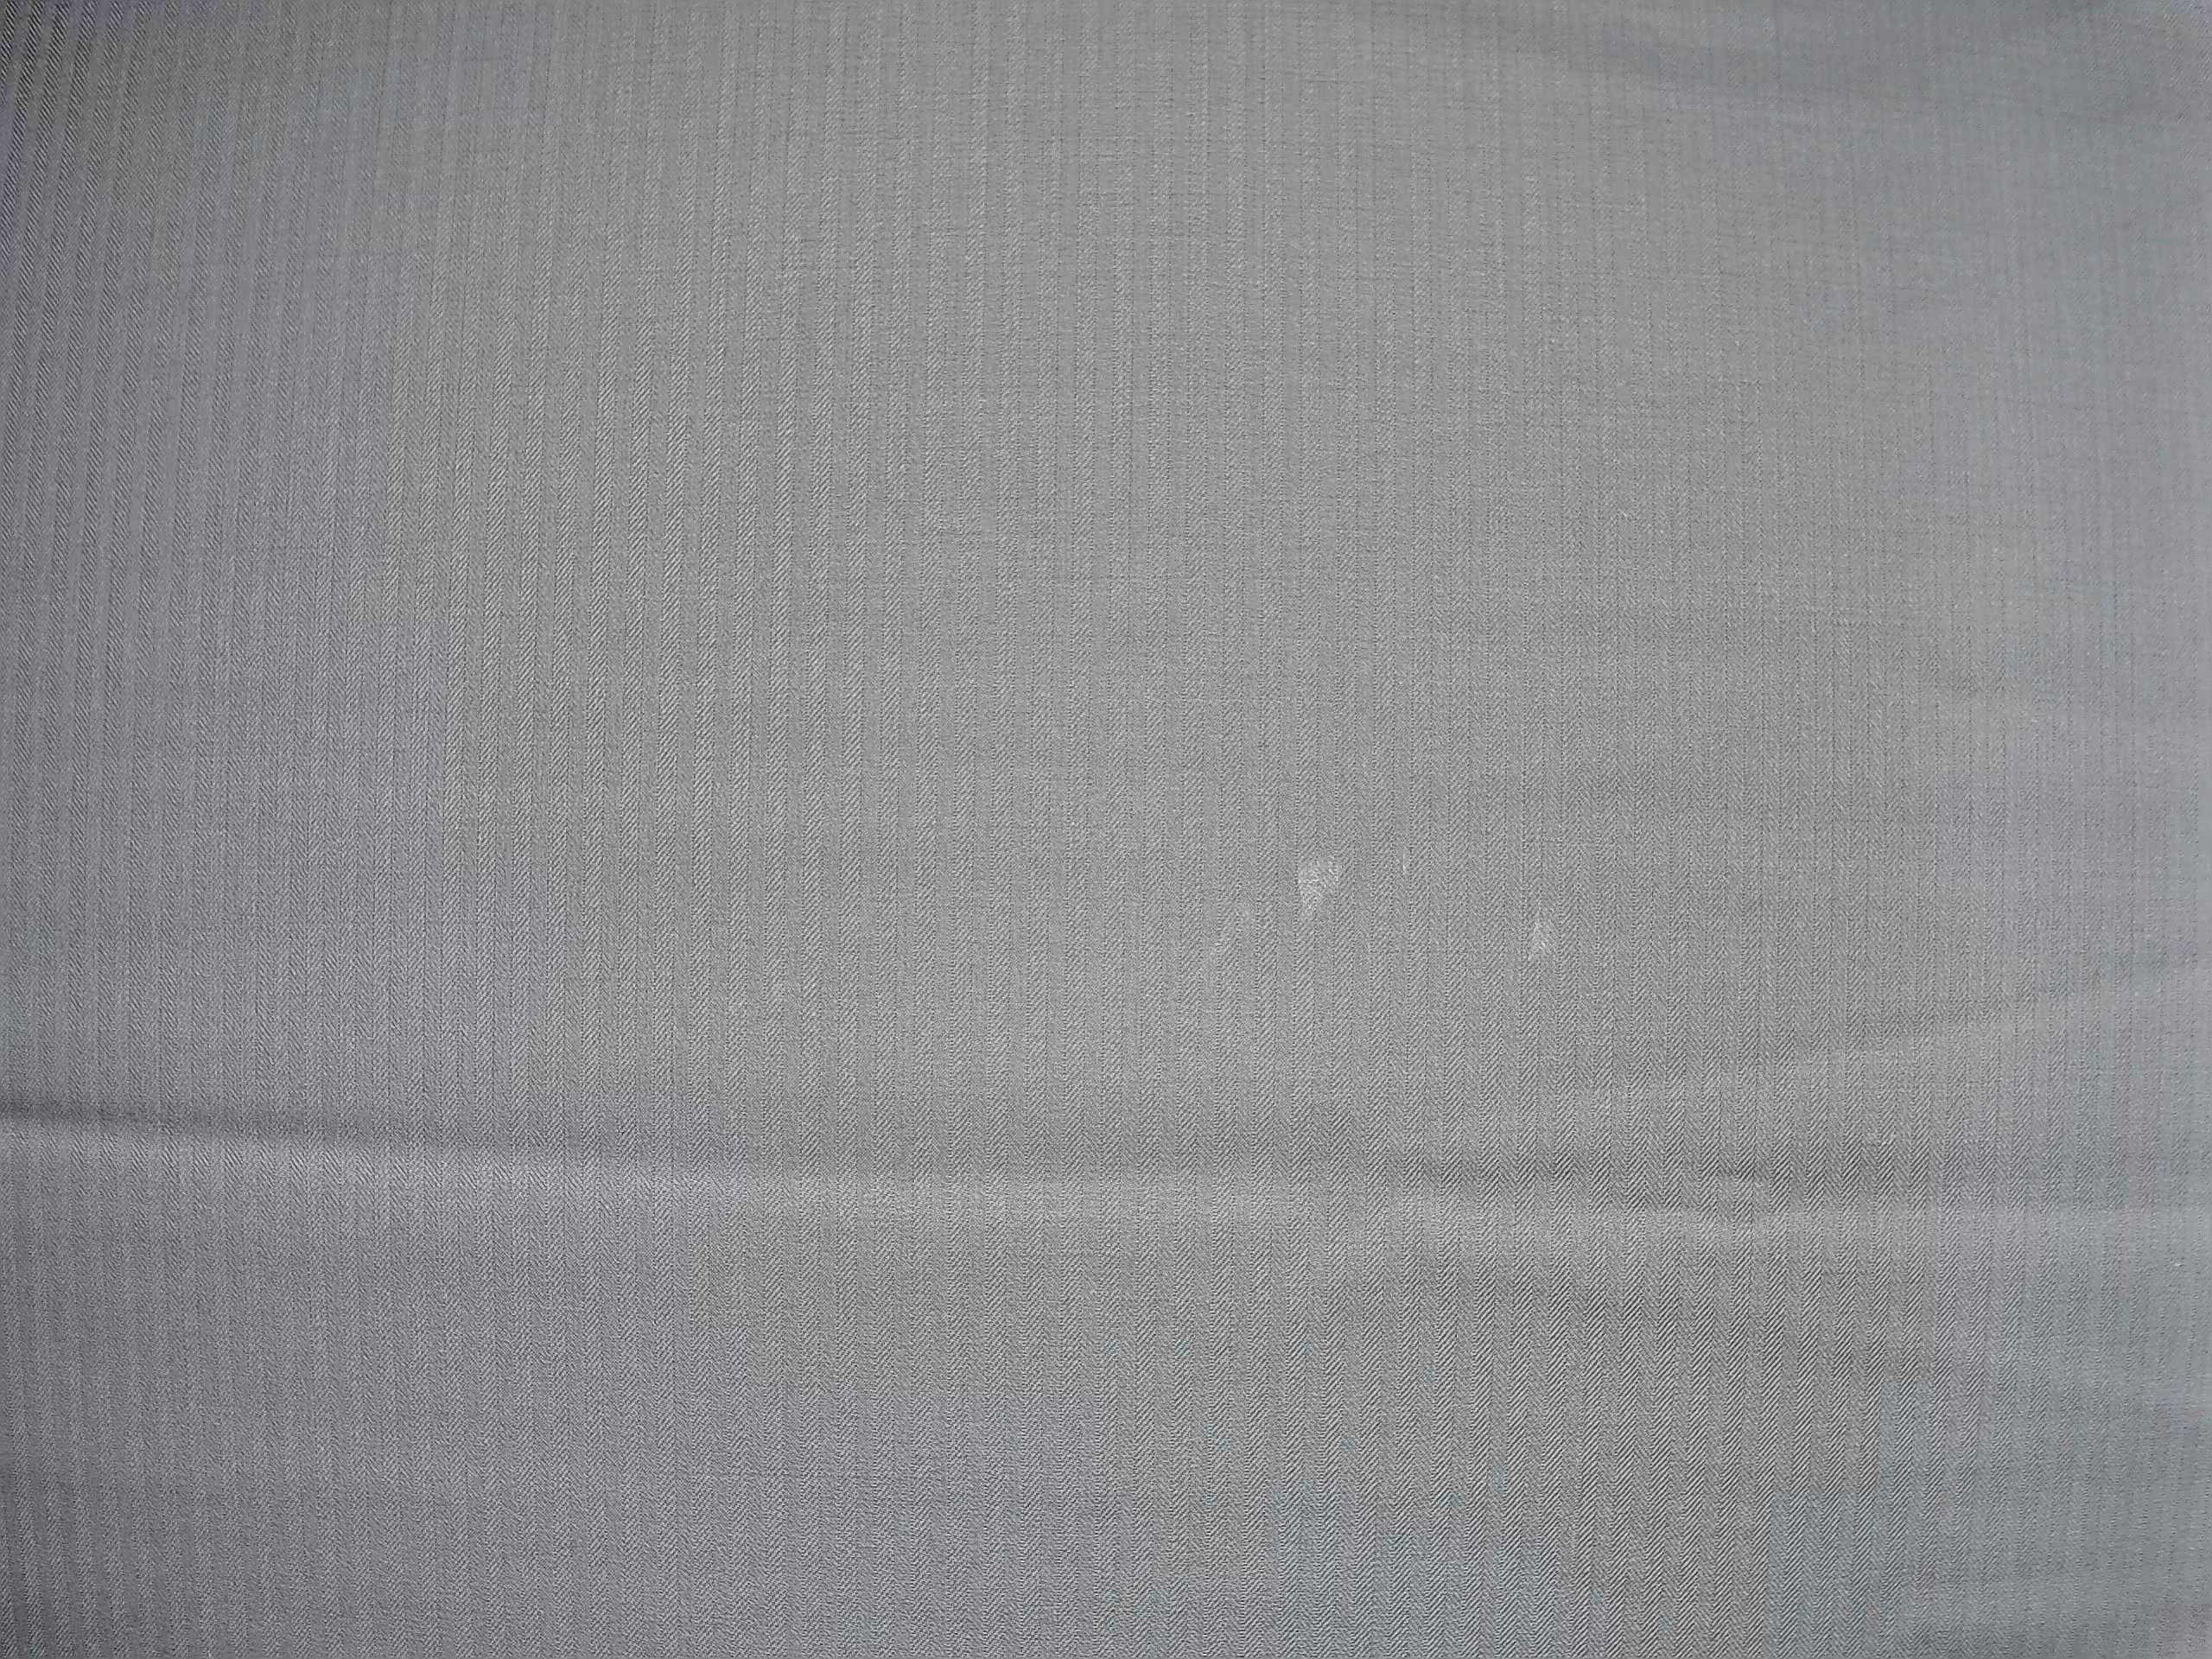others: (1273, 835, 1362, 939), (1510, 892, 1578, 976)
